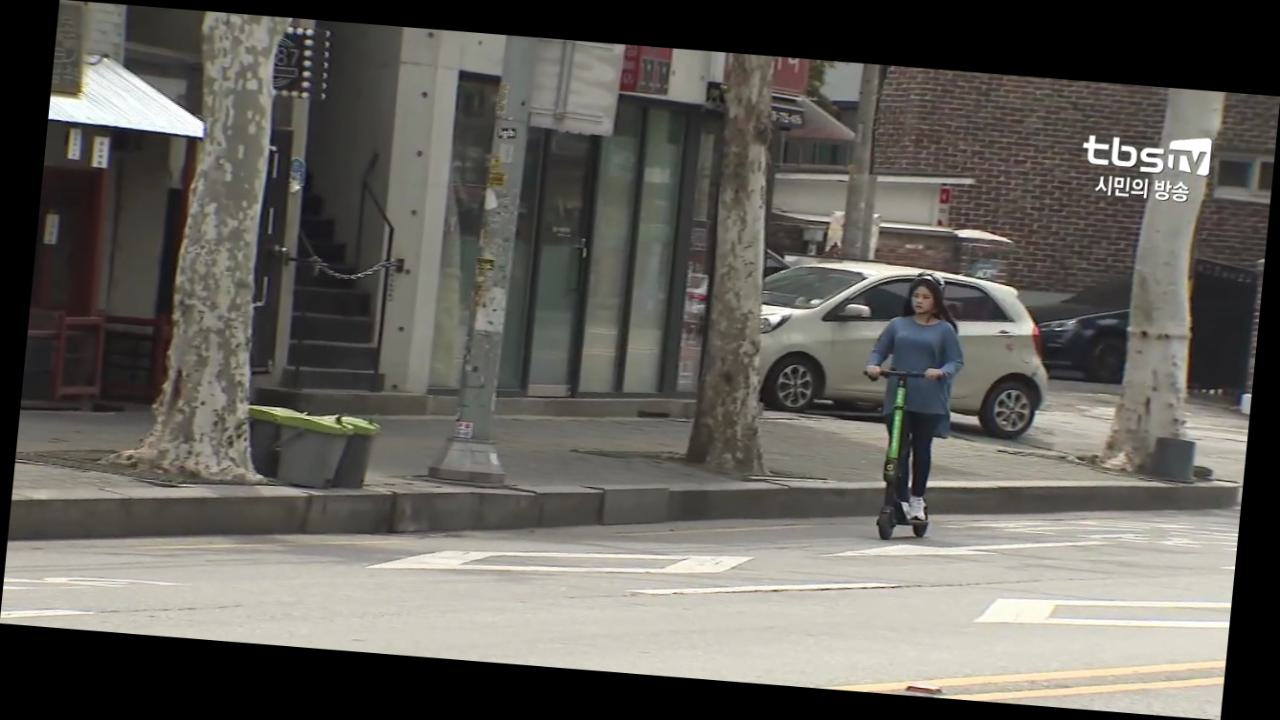helmet: (848, 265, 977, 547)
